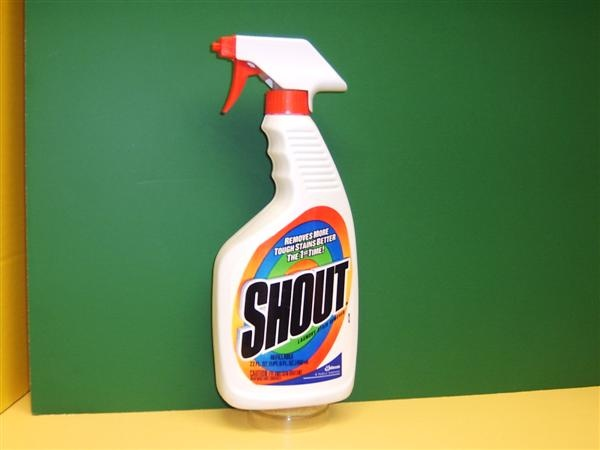grozi_86: (15, 33, 357, 411)
